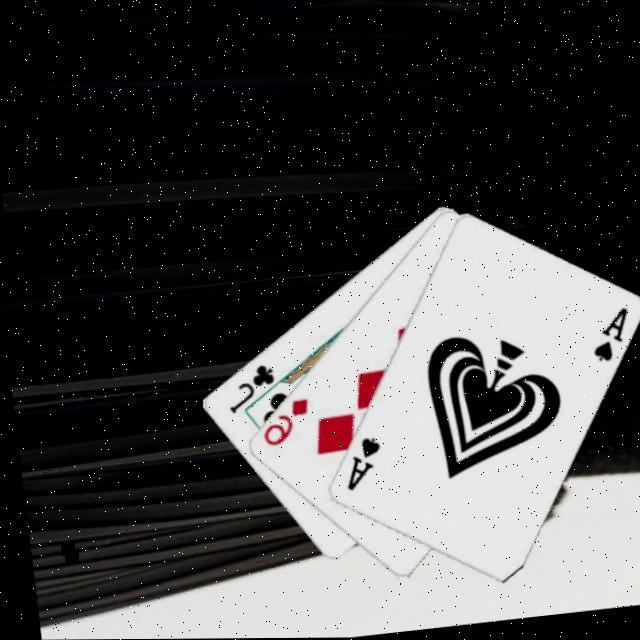9D: (254, 396, 316, 450)
AS: (584, 305, 636, 367), (337, 433, 388, 495)
JC: (220, 360, 282, 418)
